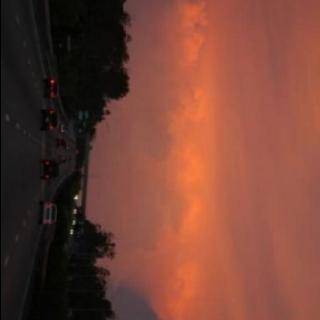Cumulonimbus: (103, 0, 320, 320)
